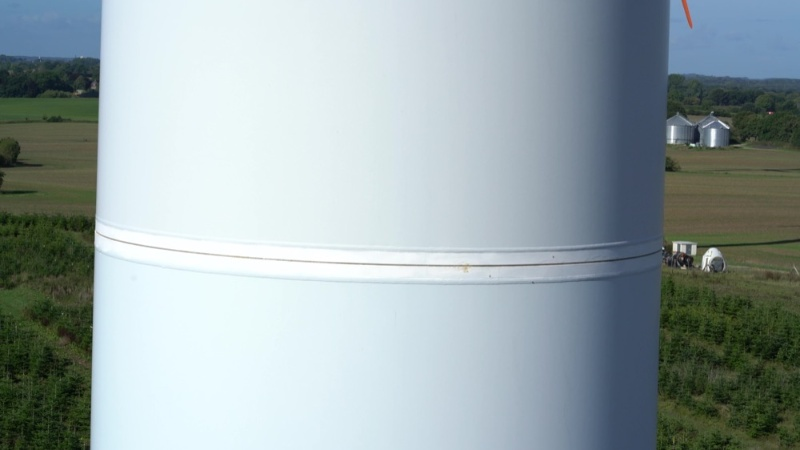weldseam: (93, 242, 662, 289), (95, 210, 663, 257)
